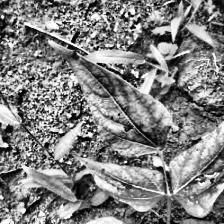ALS: (58, 43, 164, 154), (169, 92, 224, 219), (79, 158, 162, 204)
